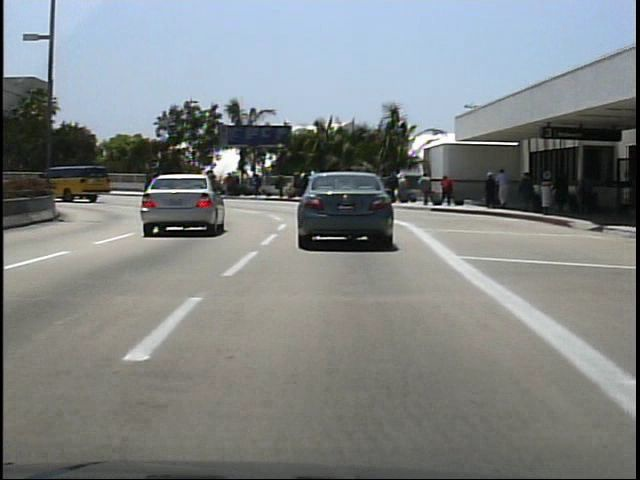person: (577, 164, 600, 218), (553, 165, 573, 215), (517, 168, 538, 214), (494, 165, 513, 212), (417, 169, 436, 208), (439, 170, 458, 209), (484, 169, 502, 210), (387, 170, 400, 206), (141, 169, 158, 194), (90, 164, 104, 194)
